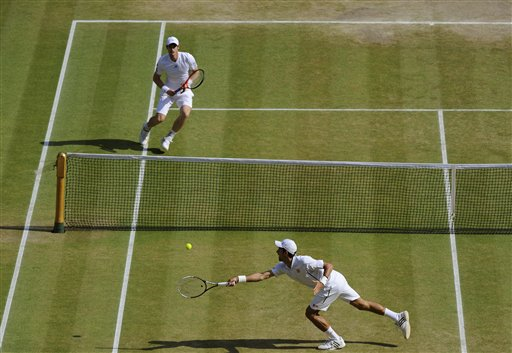tennis ball: (185, 242, 195, 251)
tennis player: (226, 238, 412, 350), (140, 34, 204, 155)
